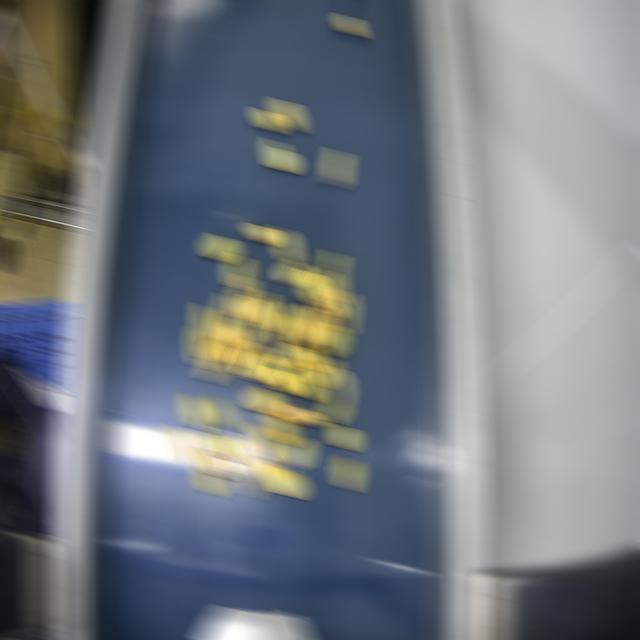Baby Potato: (236, 295, 263, 349), (263, 461, 304, 496), (323, 367, 348, 422), (196, 303, 219, 360), (286, 360, 319, 399), (168, 425, 197, 466), (202, 341, 231, 382), (211, 296, 236, 342), (325, 146, 349, 191), (244, 455, 269, 498), (317, 270, 340, 315), (231, 275, 254, 319), (250, 423, 277, 460), (245, 352, 278, 382), (235, 343, 264, 376), (266, 411, 295, 444), (299, 270, 326, 305), (208, 394, 235, 429), (272, 303, 293, 348), (221, 324, 244, 365), (324, 251, 343, 300), (208, 432, 239, 461), (267, 140, 296, 171), (317, 324, 346, 355), (273, 99, 302, 130), (310, 304, 333, 343), (297, 304, 318, 345), (282, 402, 323, 423), (186, 393, 209, 430), (284, 436, 311, 467), (267, 368, 298, 395), (249, 387, 280, 414), (334, 288, 353, 331), (200, 449, 229, 477), (336, 455, 359, 490), (256, 289, 275, 330), (276, 226, 297, 263), (205, 235, 236, 260), (312, 355, 337, 386), (276, 344, 307, 367), (191, 328, 208, 369), (279, 260, 306, 285), (229, 253, 248, 288), (285, 313, 306, 344), (332, 424, 357, 449), (300, 343, 323, 370), (257, 109, 282, 132), (198, 470, 221, 495), (250, 224, 277, 245), (338, 16, 361, 35)
